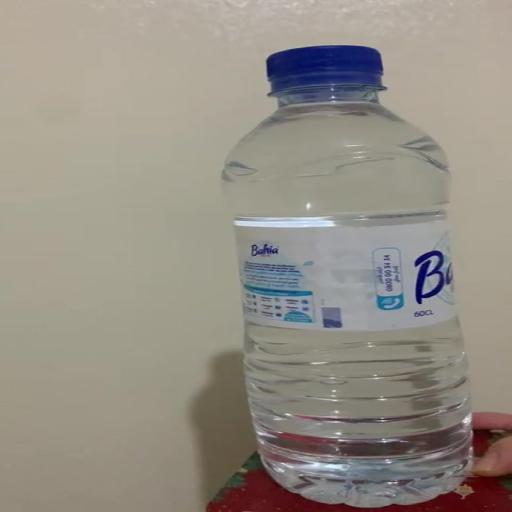bouteille conformite: (245, 316, 471, 507), (223, 86, 449, 229)
